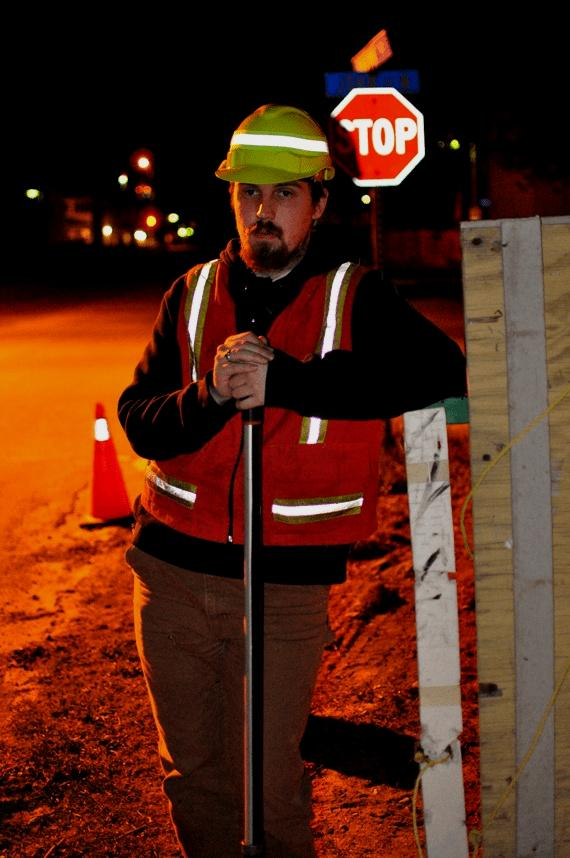helmet: (211, 97, 339, 268)
reflective: (111, 257, 407, 550)
